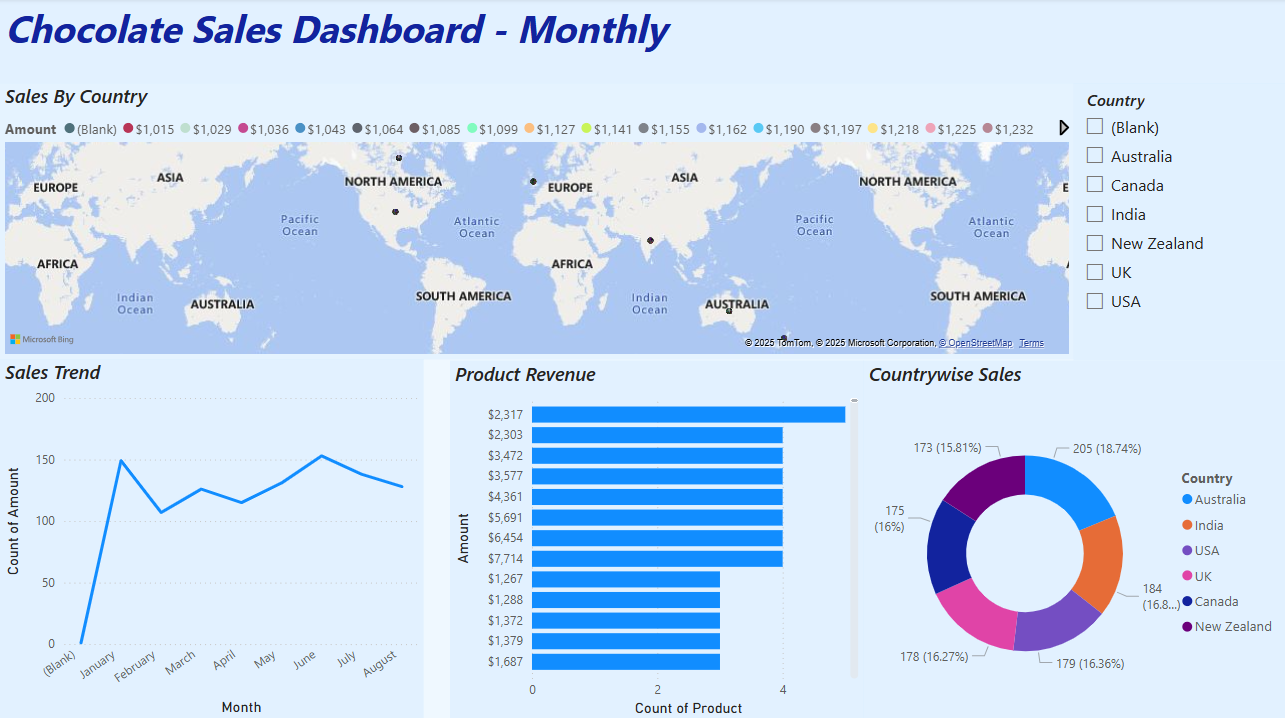

Layout of this report page (visuals, bound fields, positions):
{"tool":"powerbi","page":{"name":"Page 1","canvas":[1280,720],"ordinal":0},"visuals":[{"type":"lineChart","title":"Sales Trend","fields":{"Category":["Chocolate_sales.Date.Variation.Date Hierarchy.Month","Chocolate_sales.Date.Variation.Date Hierarchy.Day"],"Y":["Count(Chocolate_sales.Amount)"]},"box":[0,359.5,421.3,359.5],"z":0},{"type":"barChart","title":"Product Revenue","fields":{"Category":["Chocolate_sales.Amount"],"Y":["CountNonNull(Chocolate_sales.Product)"]},"box":[447.3,360.9,411.7,359.5],"z":1000},{"type":"donutChart","title":"Countrywise Sales","fields":{"Category":["Chocolate_sales.Country"],"Y":["CountNonNull(Chocolate_sales.Amount)"]},"box":[859,360.9,421.3,359.5],"z":1001},{"type":"textbox","box":[0,0,1280.3,85.1],"z":1002},{"type":"slicer","fields":{"Values":["Chocolate_sales.Country"]},"box":[1069,85.1,211.3,275.8],"z":1003},{"type":"map","title":"Sales By Country","fields":{"Category":["Chocolate_sales.Country"],"Series":["Chocolate_sales.Amount"]},"box":[0,85,1069,275],"z":1004}]}

Visuals, with their boxes in screenshot pixels (x1, y1, x2, y2), scaled from the page's 1280x720 canvas onto the 1285x718 screenshot:
"Sales Trend" lineChart: crop(0, 359, 423, 717)
"Product Revenue" barChart: crop(449, 360, 862, 717)
"Countrywise Sales" donutChart: crop(862, 360, 1284, 717)
textbox: crop(0, 0, 1284, 85)
slicer - Chocolate_sales.Country: crop(1073, 85, 1284, 360)
"Sales By Country" map: crop(0, 85, 1073, 359)
